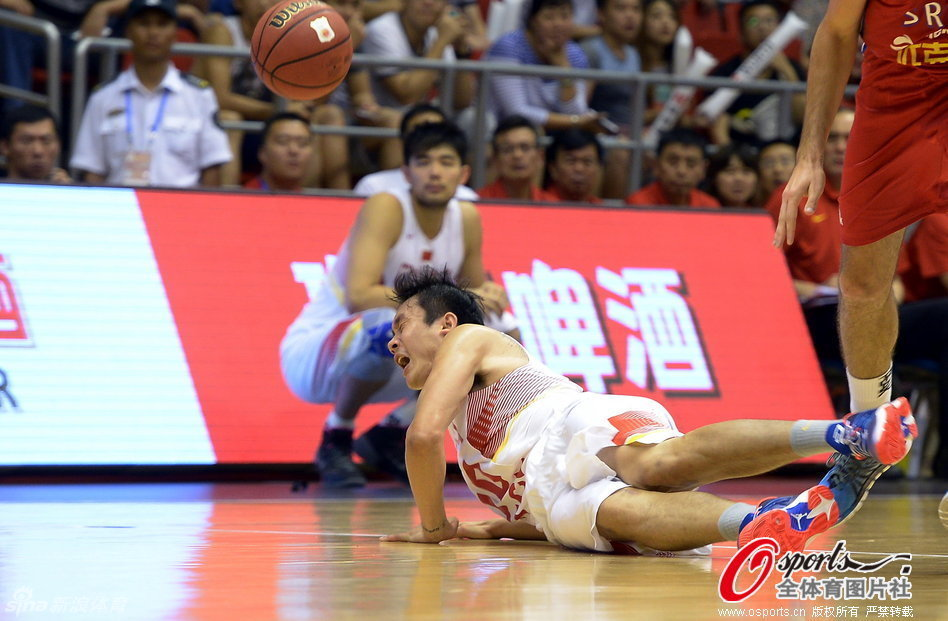10+: (3, 1, 948, 490)
down: (370, 272, 912, 584)
